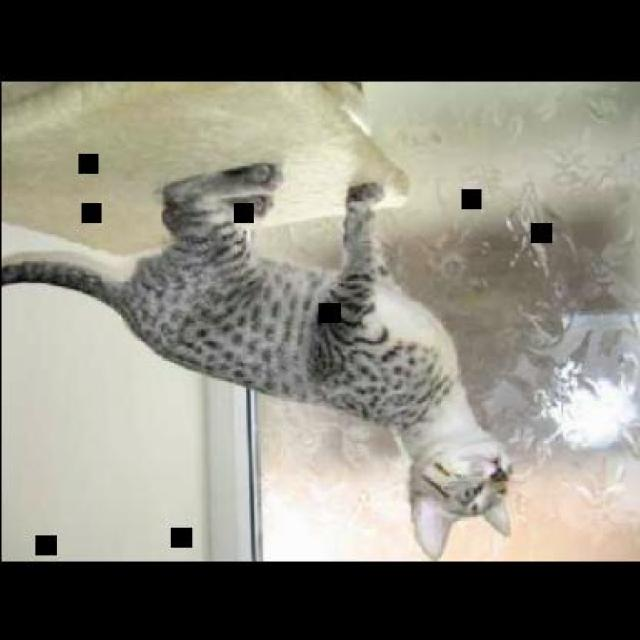unauthorized: (0, 160, 514, 558)
